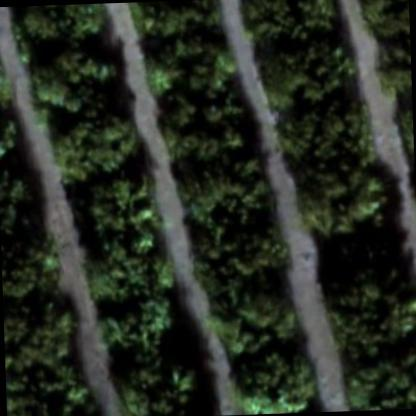Canopy-Citrus: (324, 266, 415, 359), (274, 90, 372, 174), (296, 158, 392, 242), (143, 25, 242, 105), (156, 86, 250, 170), (254, 30, 359, 98), (206, 276, 300, 350), (181, 174, 275, 247), (86, 238, 177, 312), (183, 235, 290, 297), (232, 341, 322, 414), (49, 113, 140, 182), (77, 176, 162, 249), (28, 48, 117, 116), (3, 297, 79, 374), (115, 355, 211, 415), (98, 294, 176, 366), (9, 3, 113, 54), (340, 345, 415, 411), (238, 0, 345, 42), (6, 374, 107, 415), (126, 0, 226, 40), (1, 245, 60, 304), (0, 169, 33, 253), (361, 0, 410, 48), (374, 44, 412, 97), (0, 106, 22, 178), (0, 57, 12, 115)
